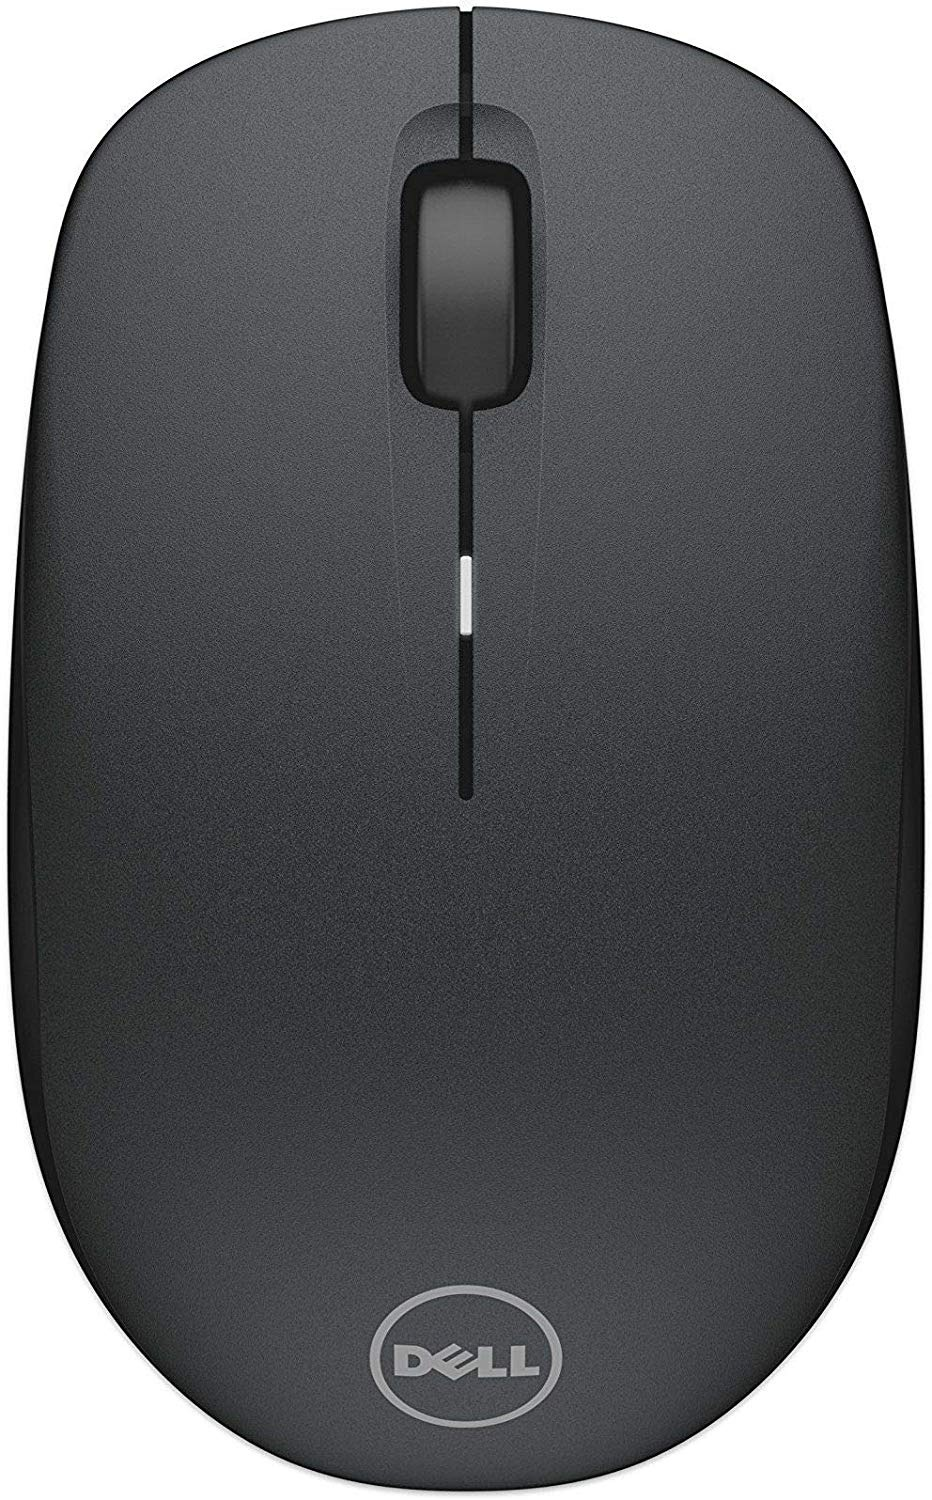mouse: (11, 8, 928, 1491)
